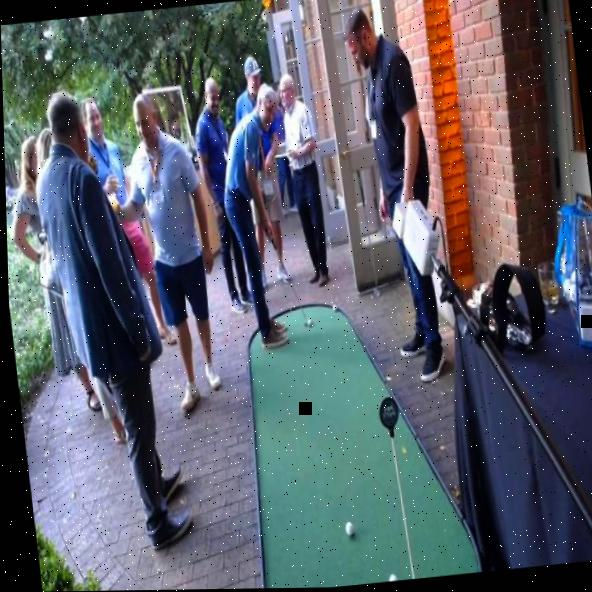GolfBall: (335, 513, 359, 543), (380, 566, 400, 583), (324, 298, 341, 317), (302, 311, 314, 332)
